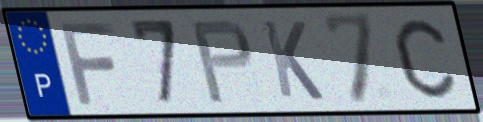7: (320, 11, 380, 109), (127, 16, 181, 108)
C: (390, 16, 459, 101)
F: (56, 19, 119, 108)
K: (258, 17, 327, 103)
P: (187, 17, 256, 107)
